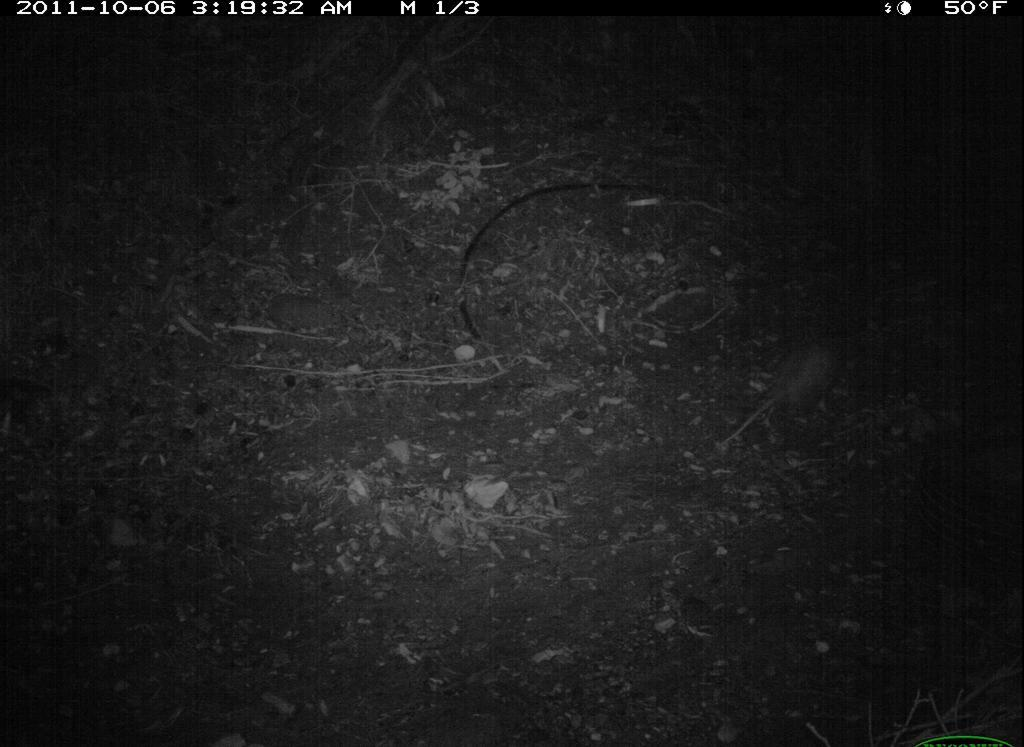opossum: (719, 324, 857, 463)
